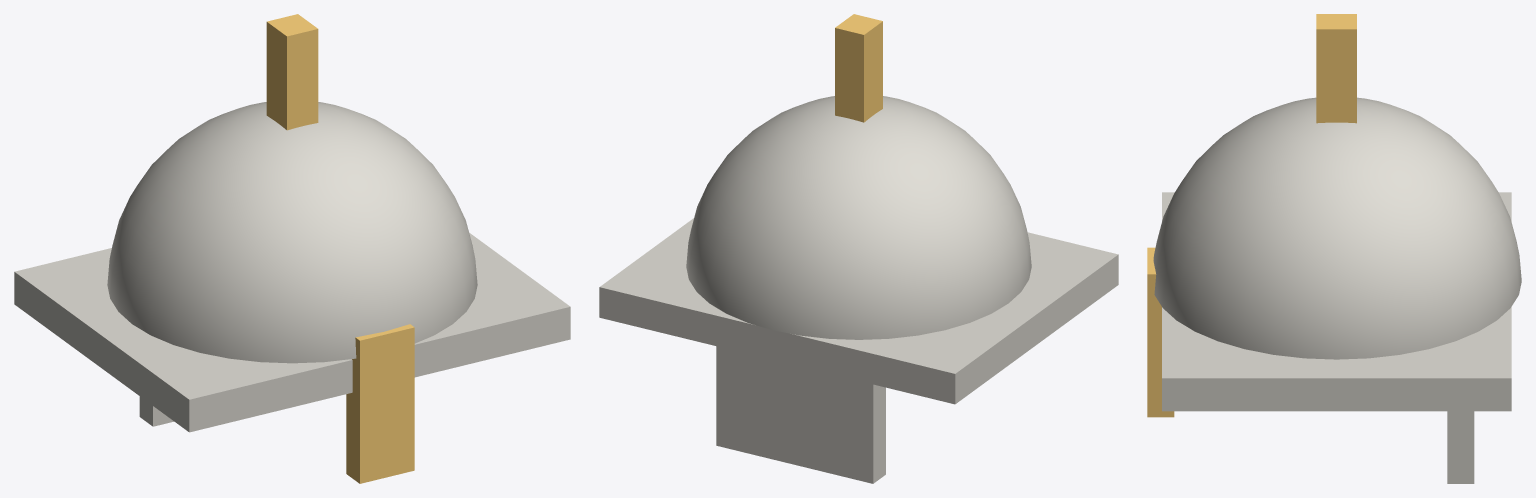
Rendered from warrior-helmet.glb.
3 renders of one model, left to right at view 1: azimuth 30°, elevation 25°; view 2: azimuth 150°, elevation 25°; view 3: azimuth 270°, elevation 25°, orthographic. The views are drawn at different scales.
Size of the model in its own units: 1.95 by 2.06 by 1.66.
